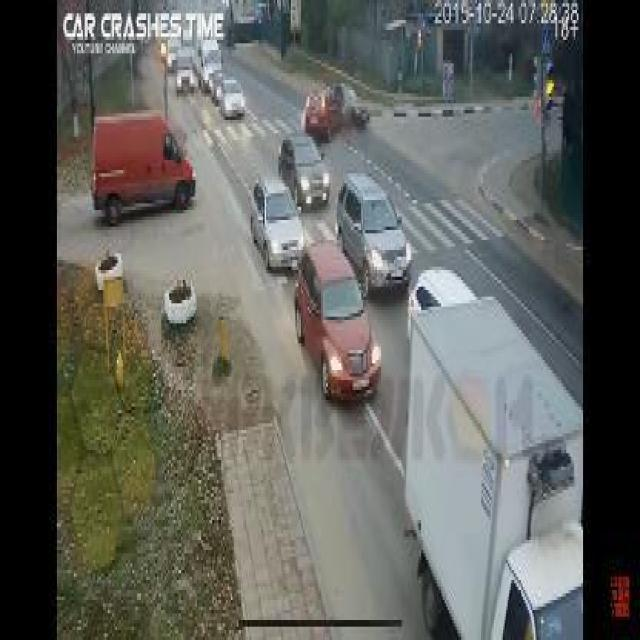accident: (298, 66, 376, 136)
